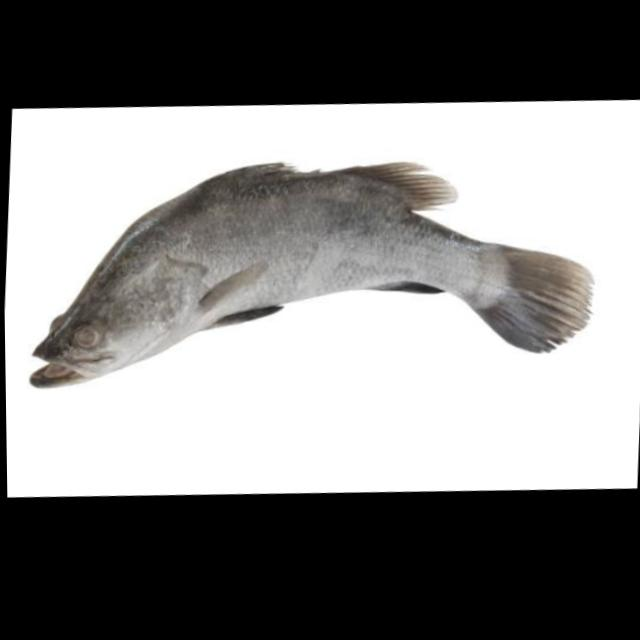Seabass: (27, 124, 598, 422)
